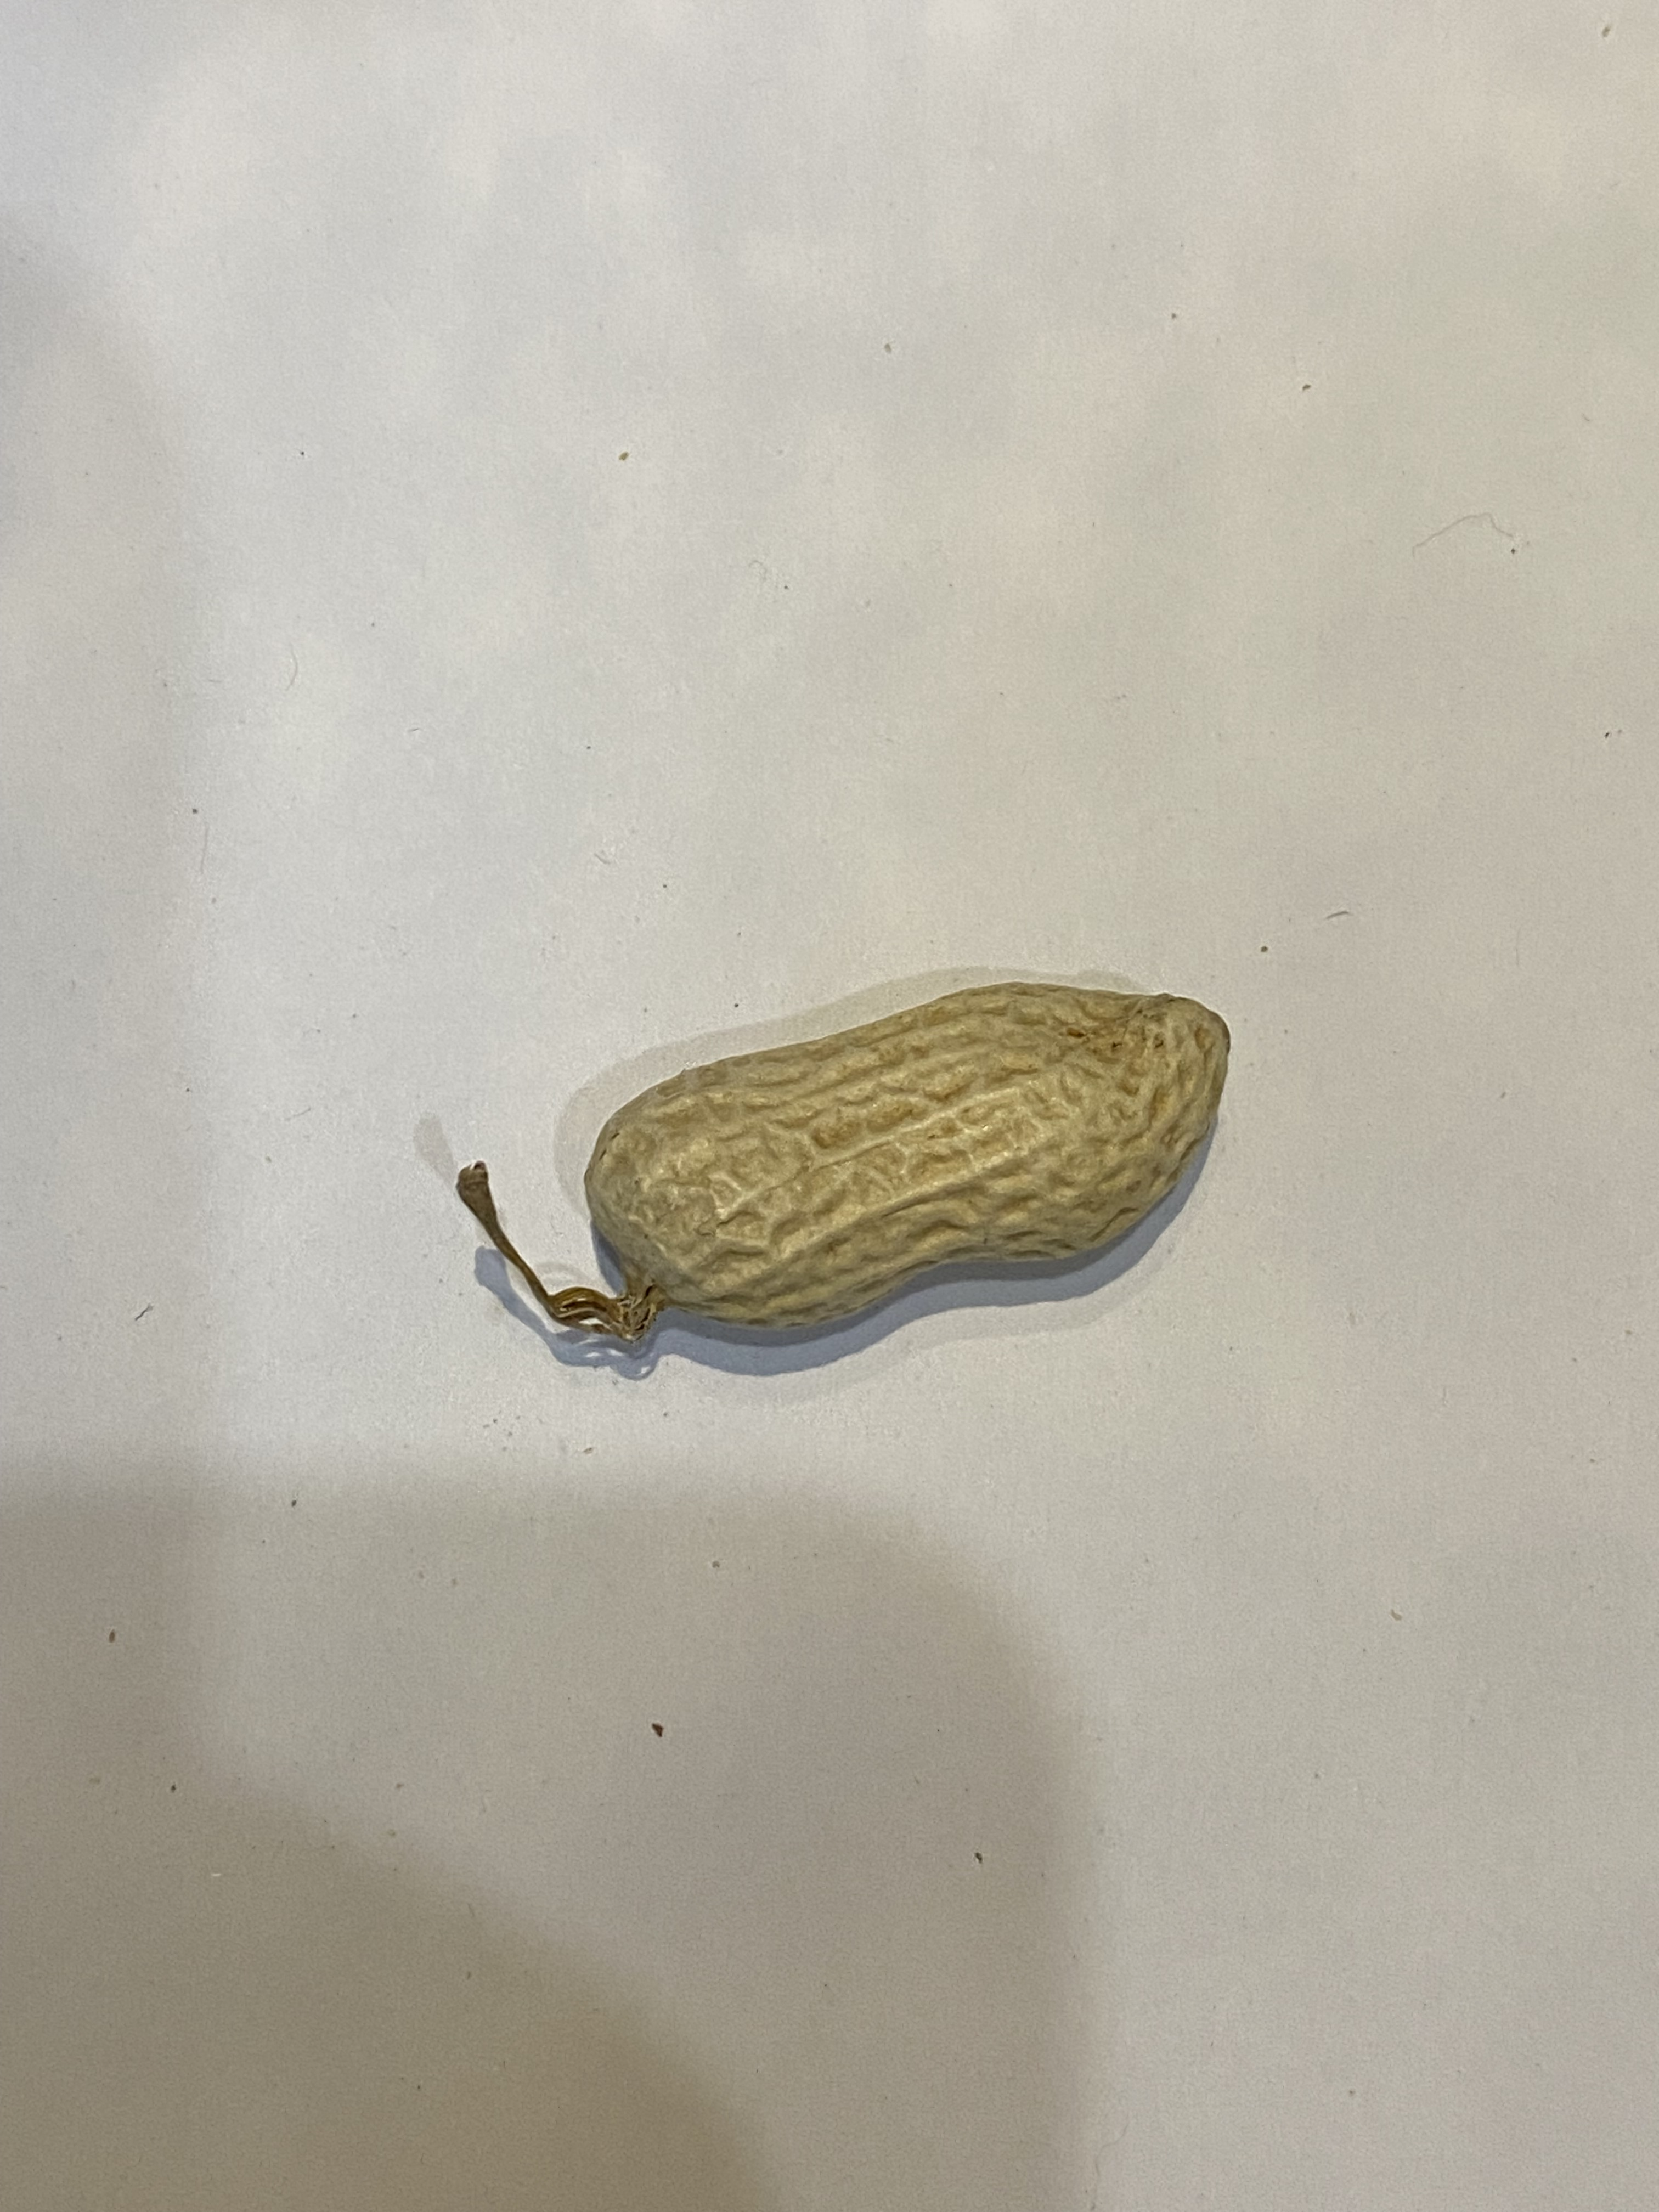kacang2: (566, 965, 1274, 1393)
